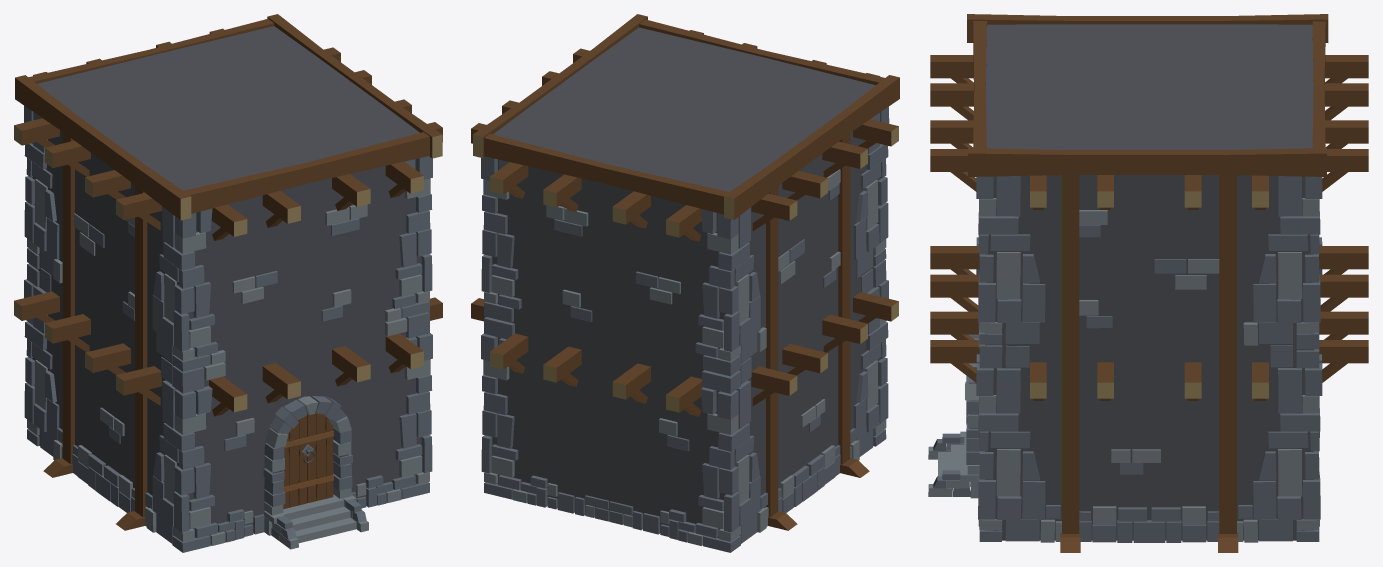
The model's file is Fantasy Barracks.glb.
3 views of the same model, side by side, from view 1: azimuth 30°, elevation 25°; view 2: azimuth 150°, elevation 25°; view 3: azimuth 270°, elevation 25° (orthographic). The views are drawn at different scales.
Visible parts, largest first — view 1: House_3; view 2: House_3; view 3: House_3.
Boxes of the visible parts, x1,y1,x2,y2 form: House_3: (14,14,442,552); House_3: (471,14,899,552); House_3: (928,14,1368,552).
Size of the model in its own units: 1.94 by 2.09 by 2.12.
